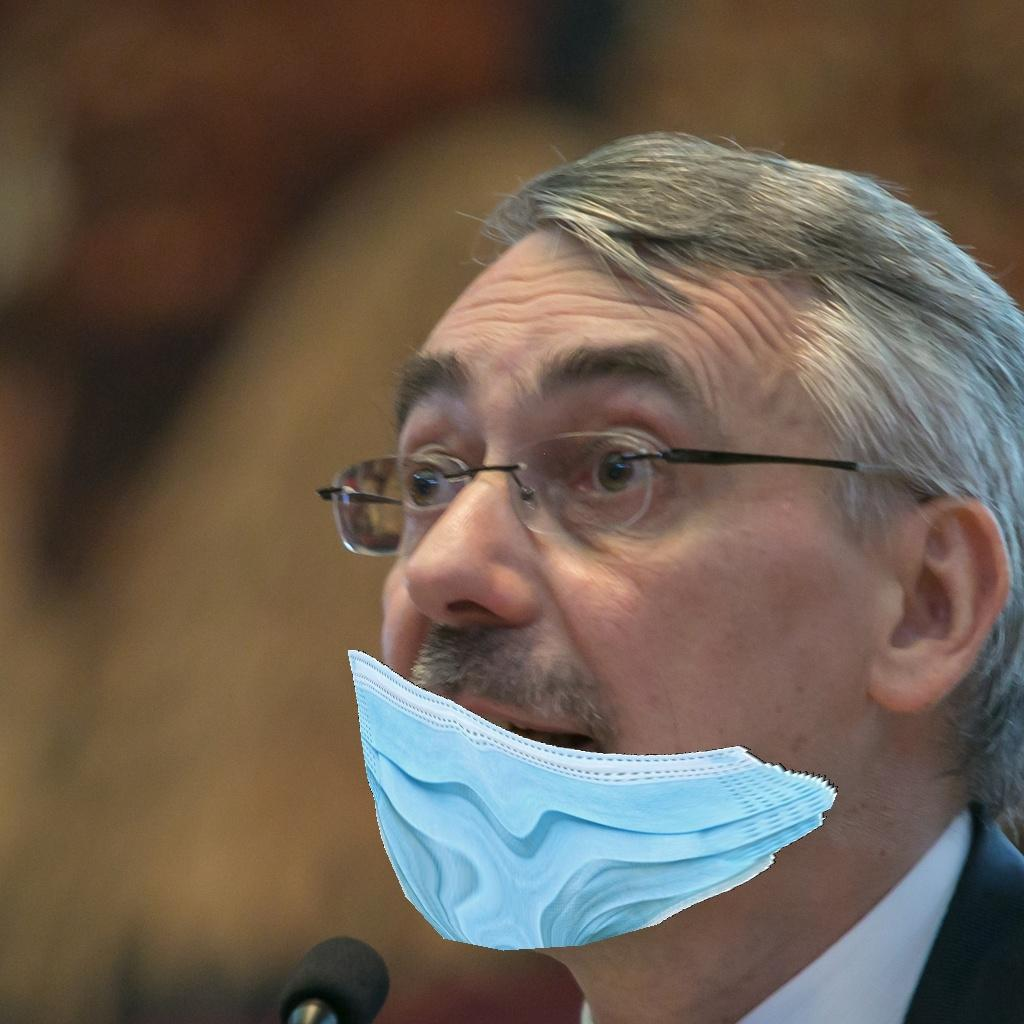Máscara Incorreta: (333, 336, 928, 951)
